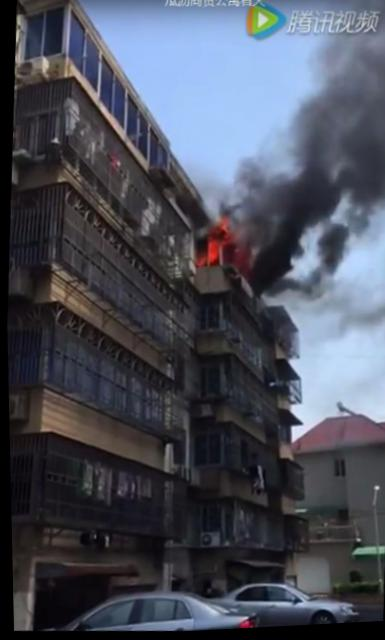fire: (204, 238, 216, 266)
